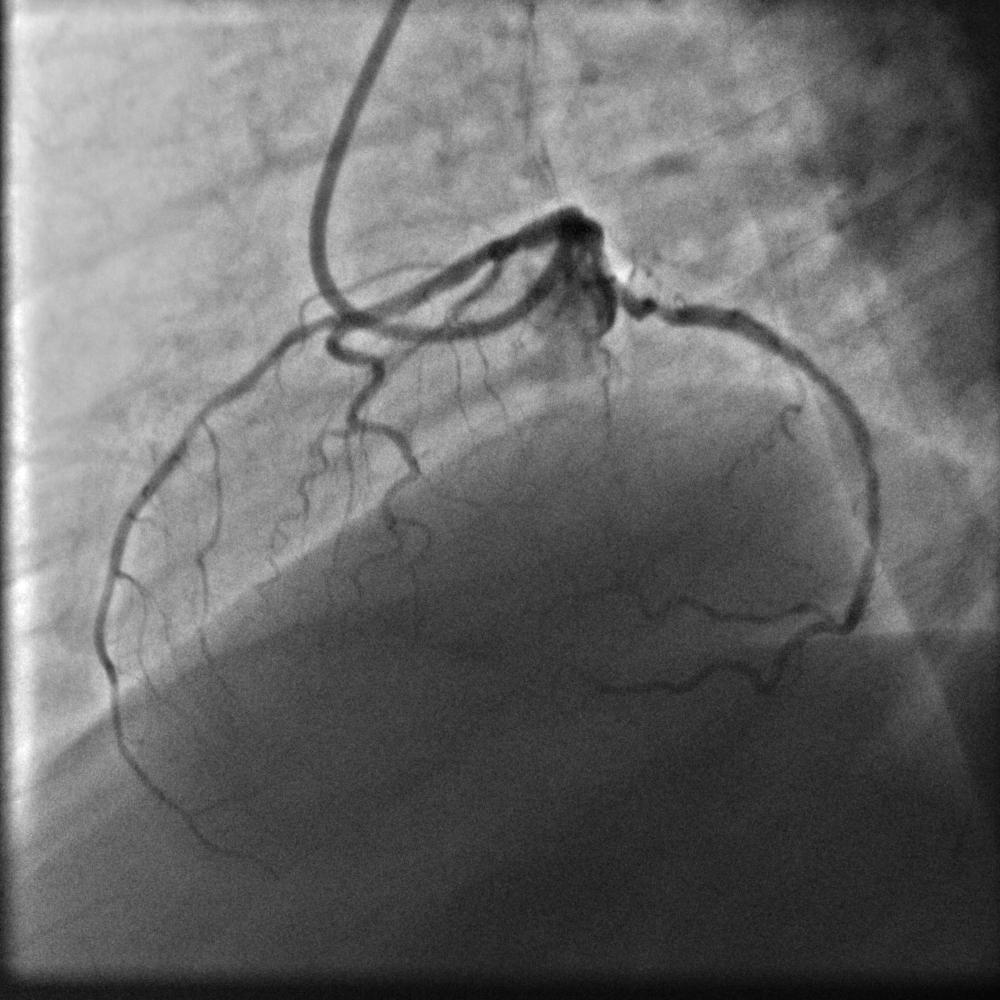Stenosis: (651, 298, 672, 331)
